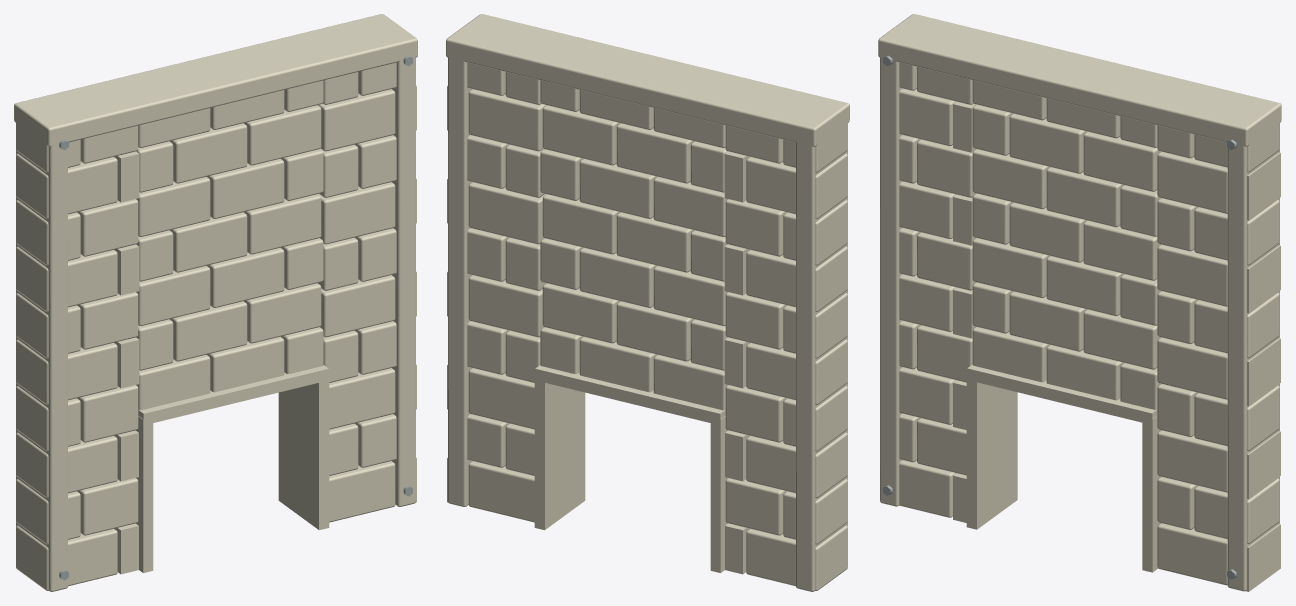
The model's file is bunker-shelter-construction-shelter-emergency-crawl-ee952308__23286.glb.
The picture shows the model from 3 angles, left to right: view 1: azimuth 30°, elevation 25°; view 2: azimuth 150°, elevation 25°; view 3: azimuth 330°, elevation 25°; orthographic projection.
Parts seen in each view (by area): view 1: shelter-emergency-crawl; view 2: shelter-emergency-crawl; view 3: shelter-emergency-crawl.
Part boxes in pixels (x1,y1,x2,y2): shelter-emergency-crawl: (14,14,417,591); shelter-emergency-crawl: (446,14,849,591); shelter-emergency-crawl: (878,14,1281,591).
Bounding box in the file's own units: 2 × 2.4 × 0.388.
